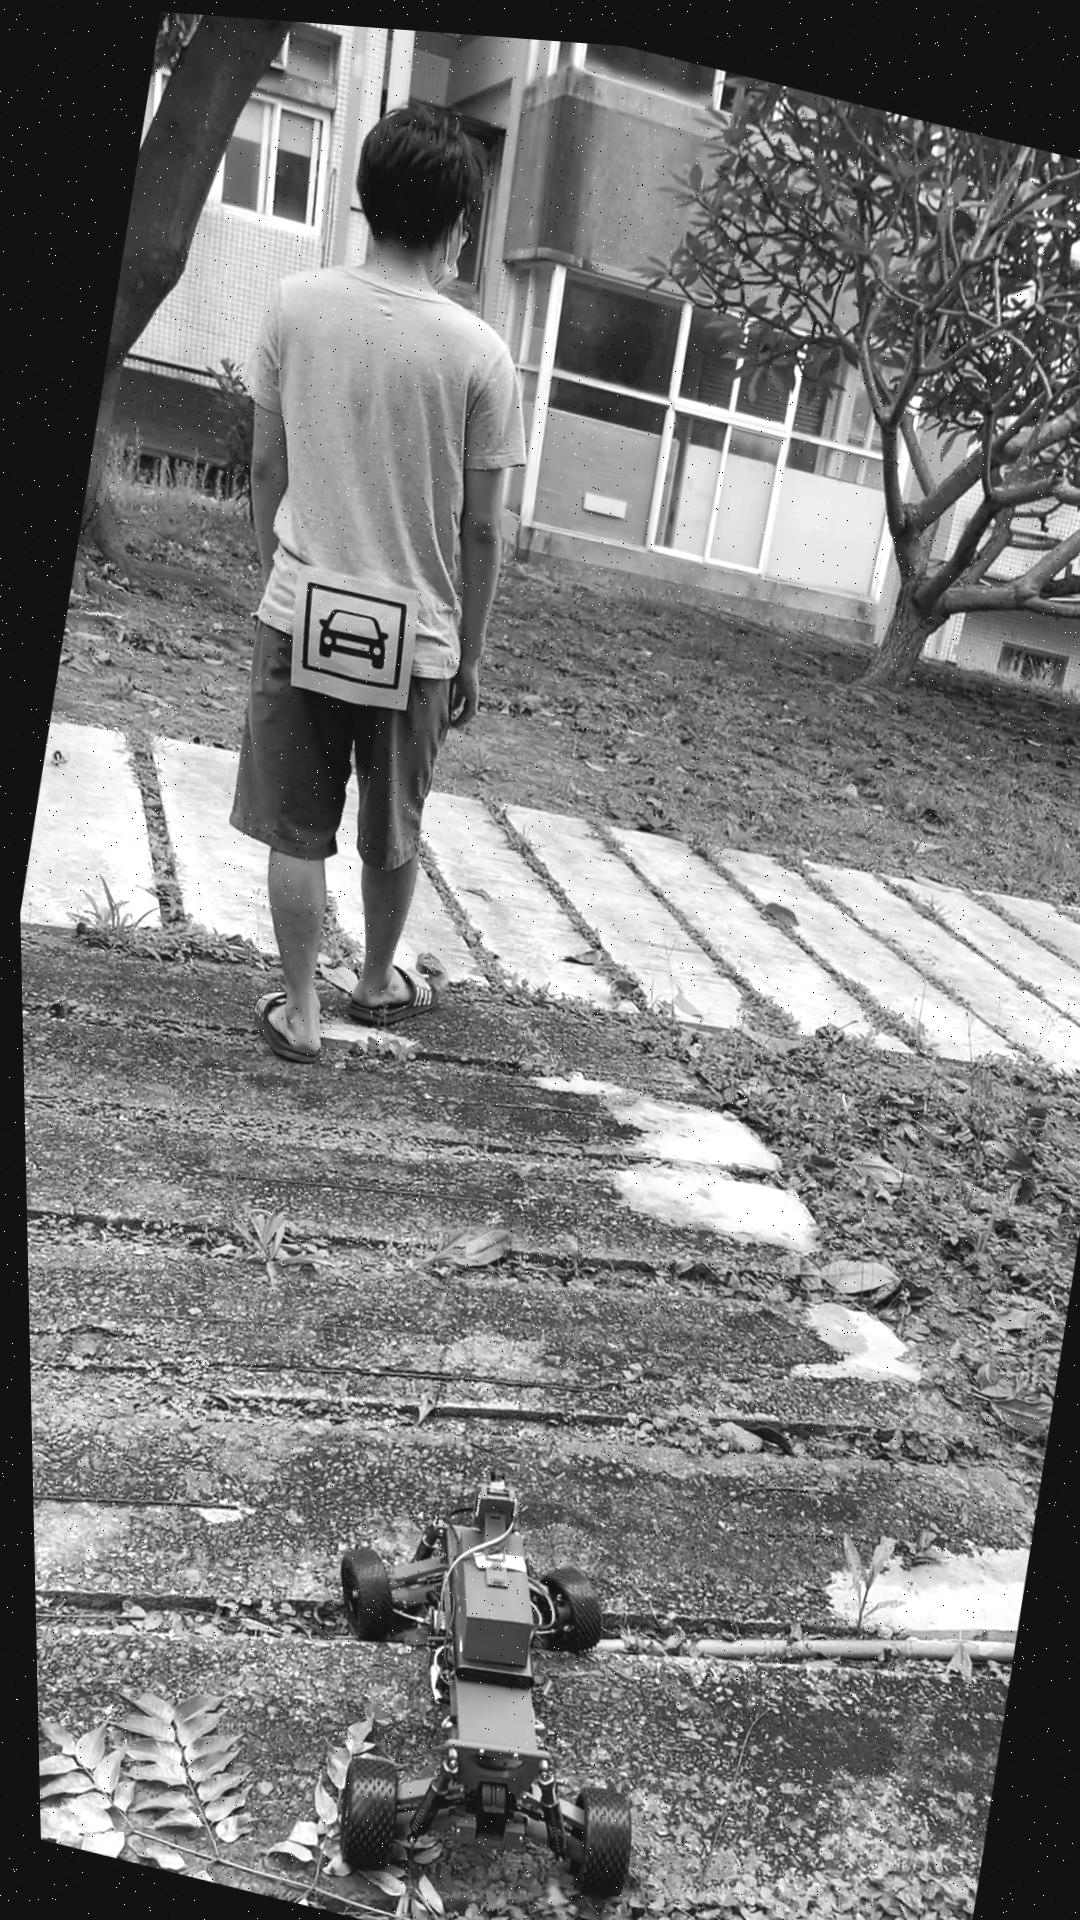car_img: (289, 574, 411, 688)
